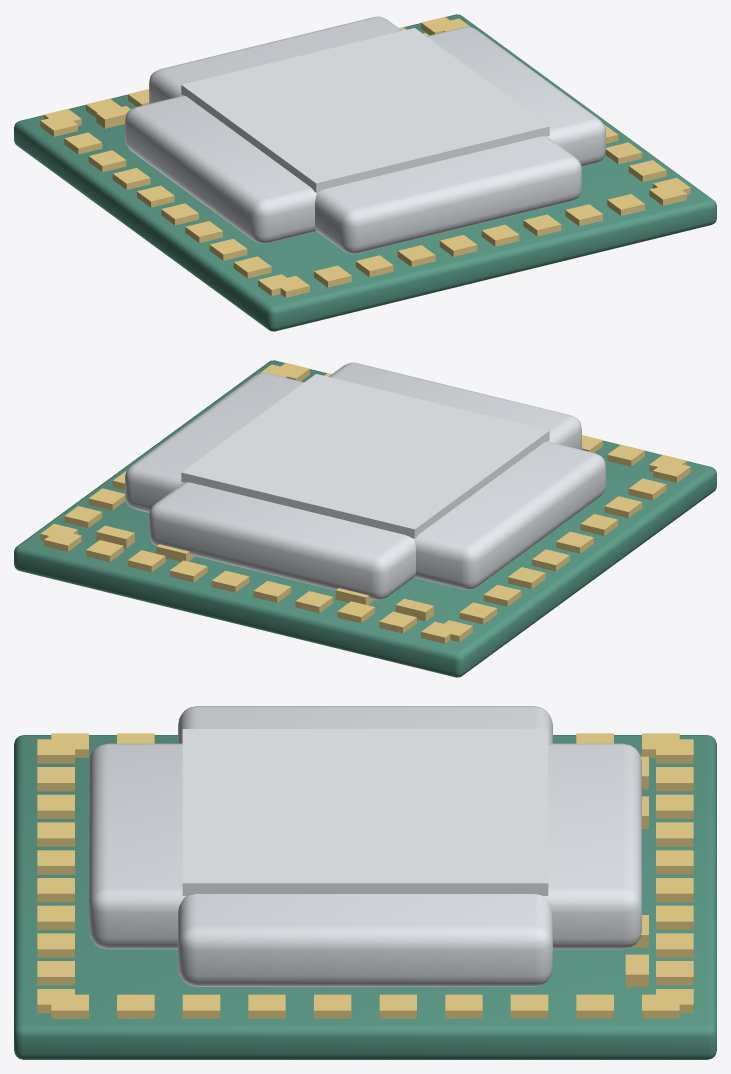
The model's file is cpu_package.glb.
3 views of the same model, one above another, from view 1: azimuth 30°, elevation 25°; view 2: azimuth 150°, elevation 25°; view 3: azimuth 270°, elevation 25° (orthographic). The views are drawn at different scales.
Parts seen in each view (by area): view 1: cpu_package; view 2: cpu_package; view 3: cpu_package.
Boxes of the visible parts, box(x1,y1,x2,y2) form: cpu_package: box(14, 14, 716, 331); cpu_package: box(14, 360, 716, 677); cpu_package: box(14, 706, 716, 1059).
Bounding box in the file's own units: 1.5 × 0.255 × 1.5.
